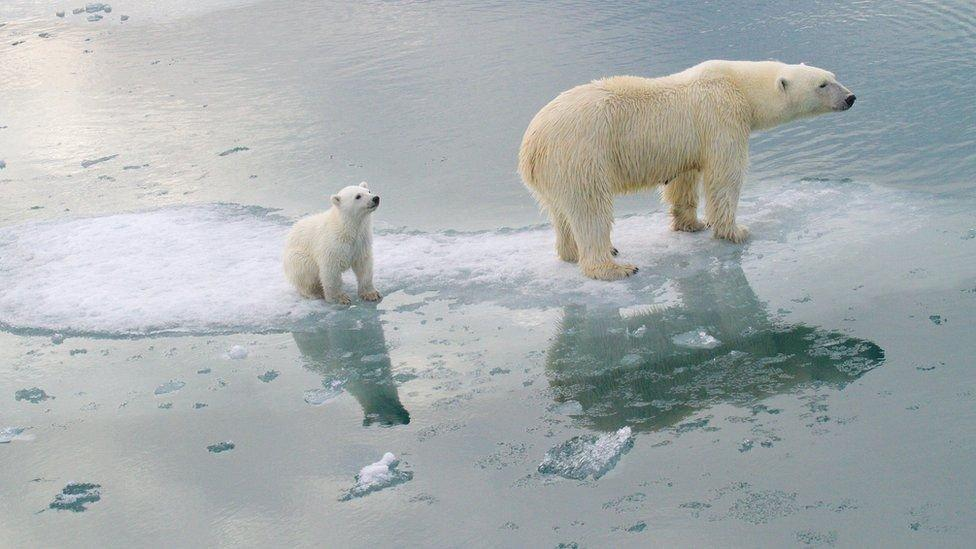bear: (519, 58, 856, 283), (285, 181, 384, 308)
